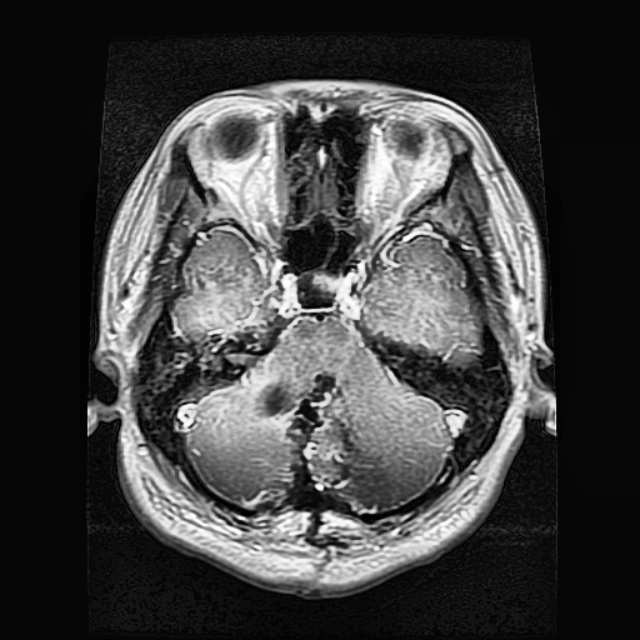Glioma: (252, 369, 357, 487)
